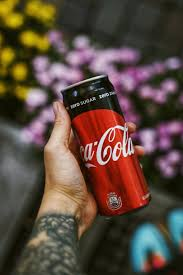can: (58, 71, 161, 221)
